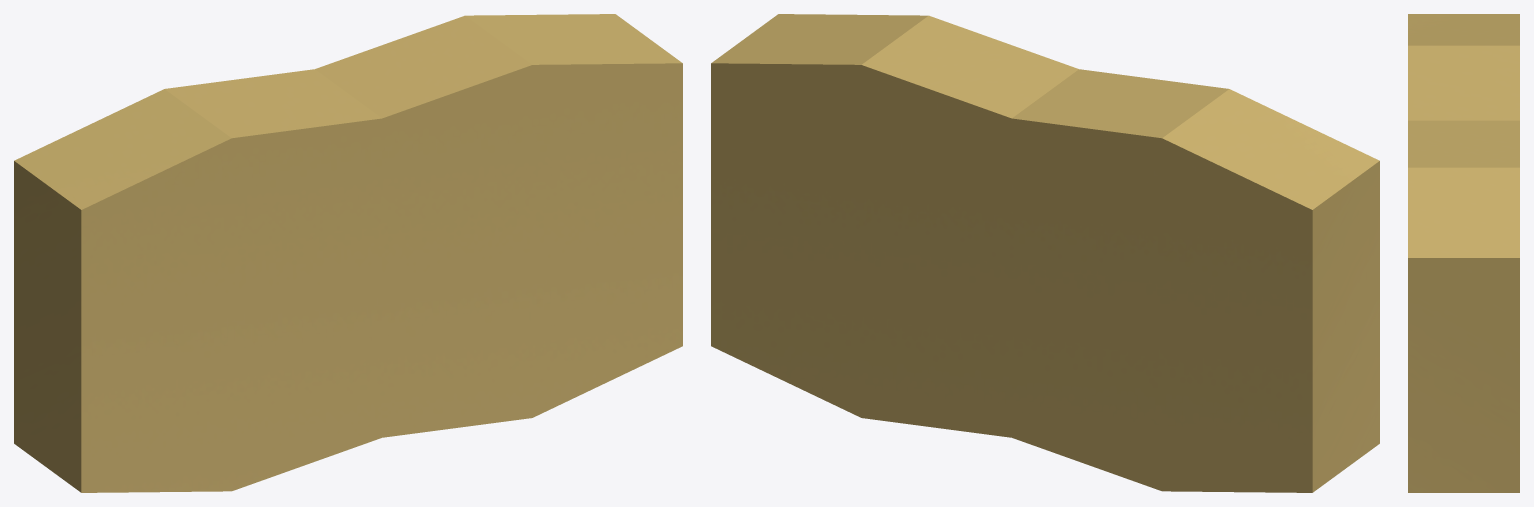
File: Sponge.fbx
3 renders of one model, left to right at view 1: azimuth 30°, elevation 25°; view 2: azimuth 150°, elevation 25°; view 3: azimuth 270°, elevation 25°, orthographic. The views are drawn at different scales.
Visible parts, largest first — view 1: Kit_1_Sponge_1; view 2: Kit_1_Sponge_1; view 3: Kit_1_Sponge_1.
Part boxes in pixels (x1=…): Kit_1_Sponge_1: x1=14, y1=14, x2=682, y2=492; Kit_1_Sponge_1: x1=711, y1=14, x2=1379, y2=492; Kit_1_Sponge_1: x1=1408, y1=14, x2=1519, y2=492.
Size of the model in its own units: 7.73 by 4.33 by 1.5.
